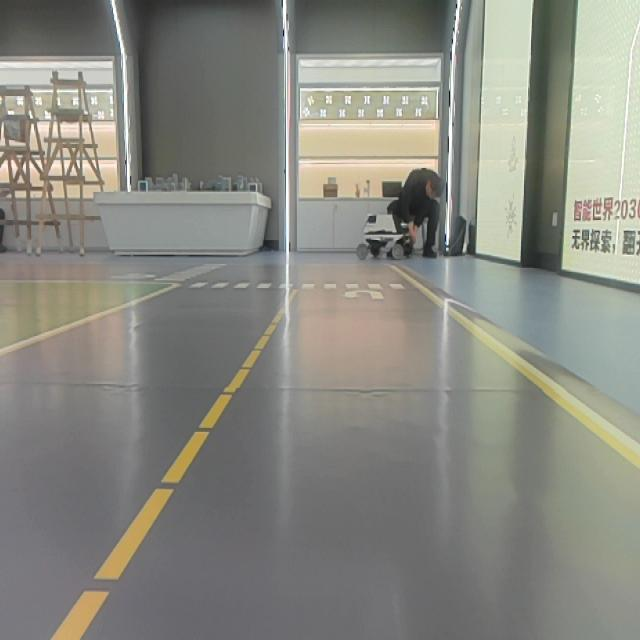left_lane: (49, 286, 297, 640)
right_lane: (404, 275, 640, 468), (0, 286, 183, 356)
